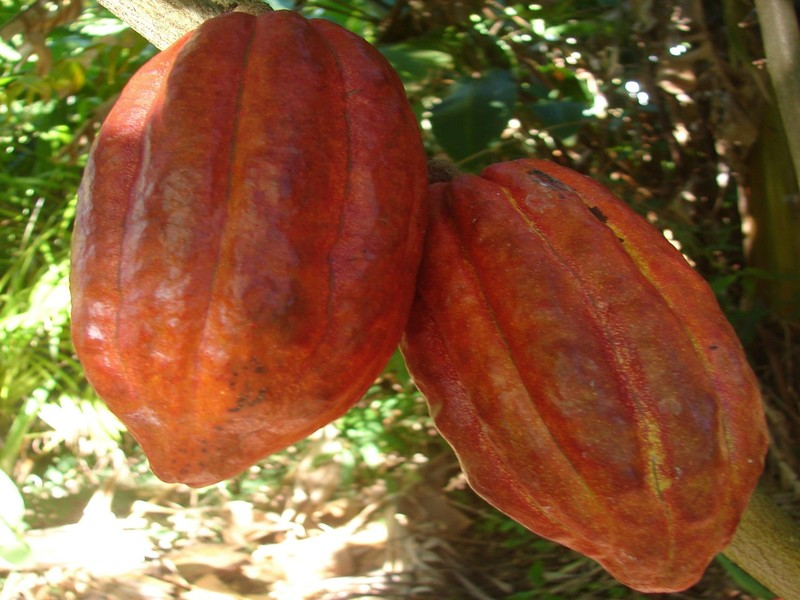Cacaopod: (61, 8, 413, 492), (406, 149, 750, 590)
